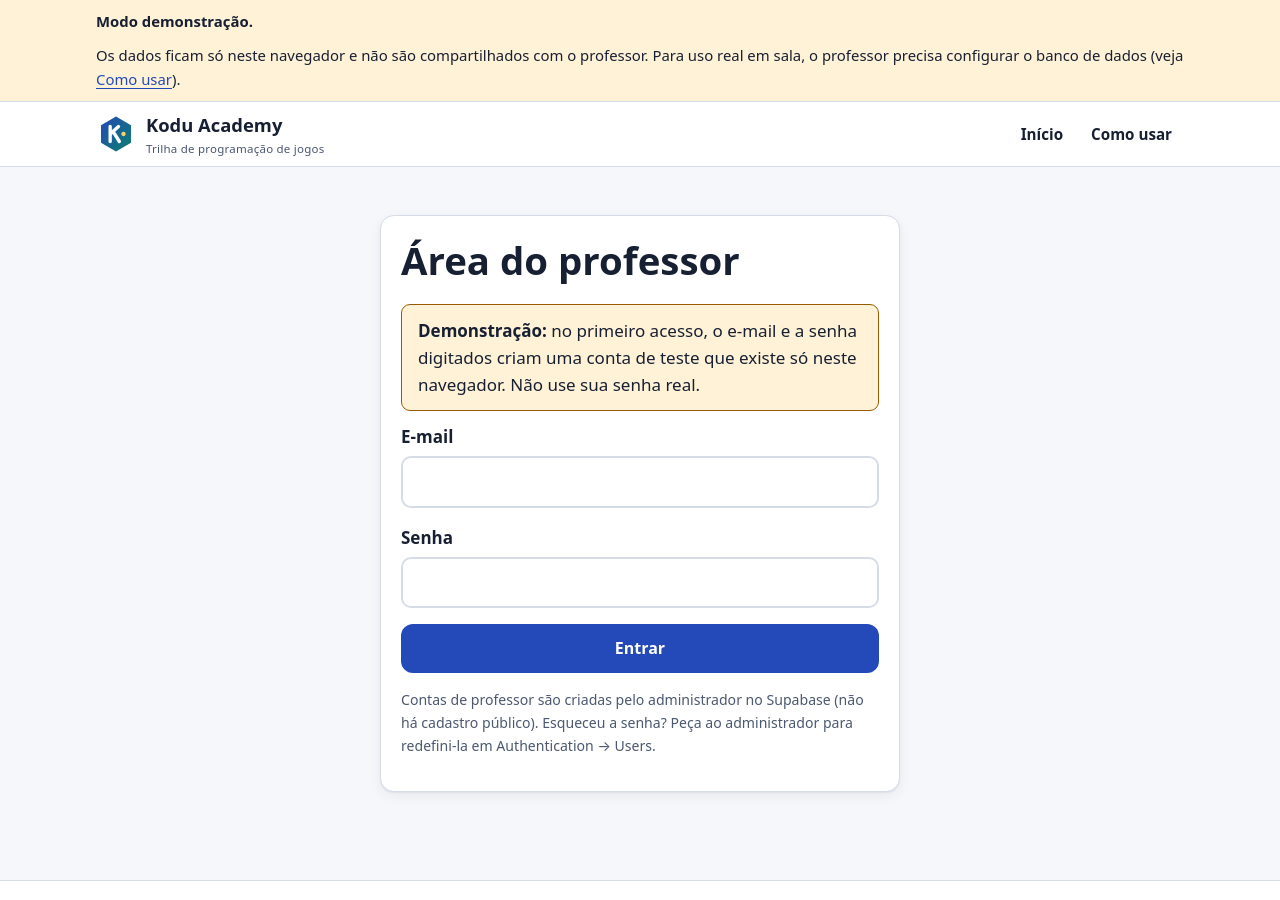
Test case: painel do professor › valida o formulário de login
Click the button "Entrar" at (640, 649), box [401,624,879,674]
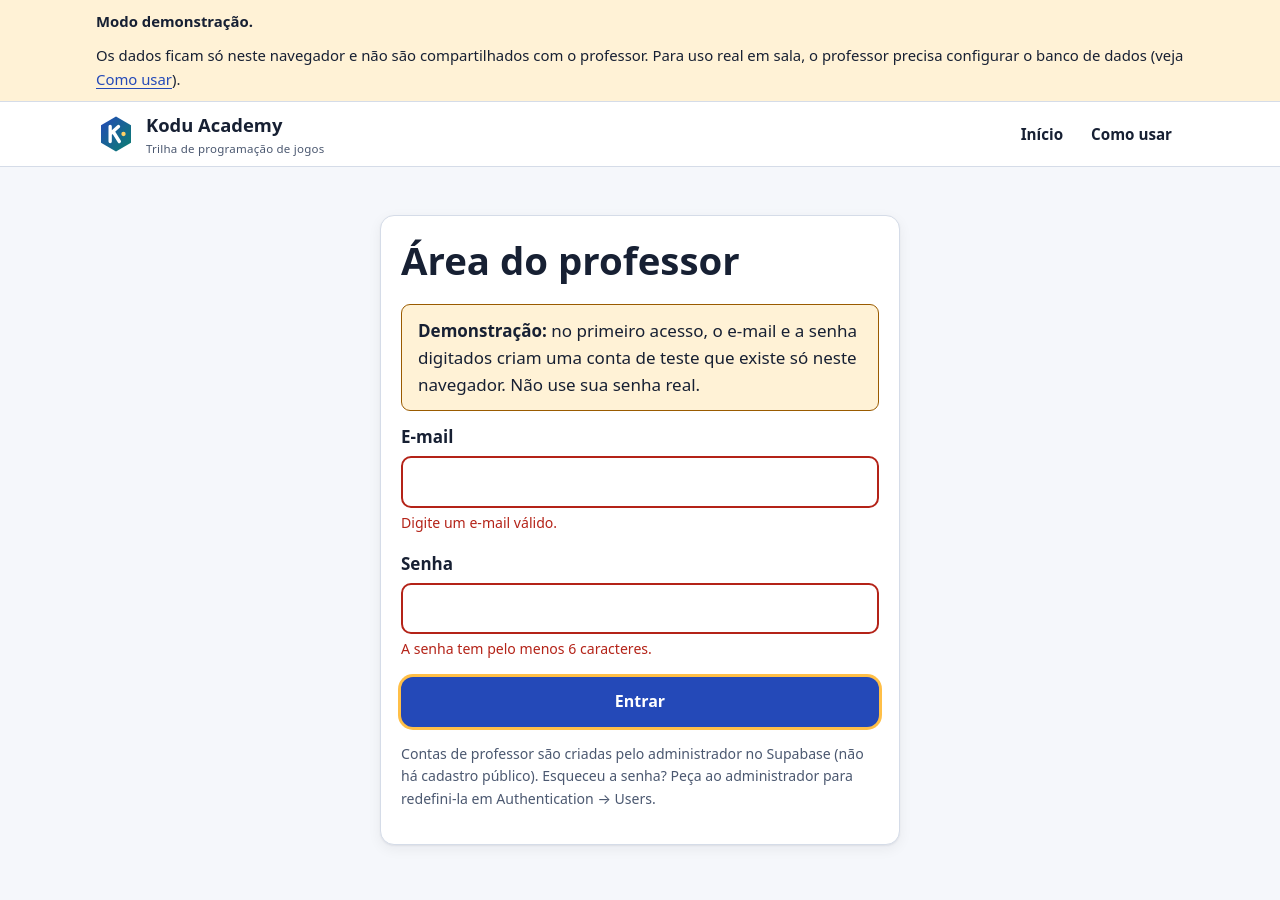
Now the text "Digite um e-mail válido." is shown, box [401,512,557,532]
Now the text "A senha tem pelo menos 6 caracteres." is shown, box [401,639,652,658]
